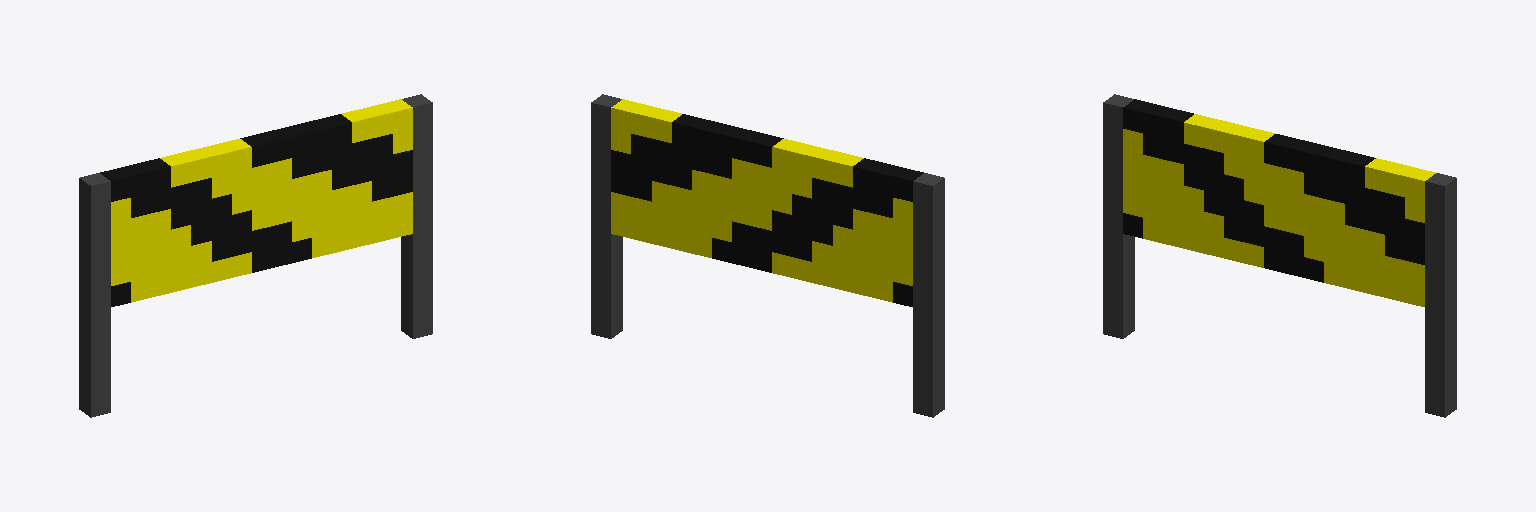
3 views of the same model, side by side, from view 1: azimuth 30°, elevation 25°; view 2: azimuth 150°, elevation 25°; view 3: azimuth 330°, elevation 25° (orthographic).
Visible parts, largest first — view 1: object 1; view 2: object 1; view 3: object 1.
Part boxes in pixels (bbox=[...]): object 1: bbox=[79, 94, 432, 417]; object 1: bbox=[591, 94, 944, 417]; object 1: bbox=[1103, 94, 1456, 417].
Size of the model in its own units: 6.8 by 4.4 by 0.4.
Materials: 1 (1 with a texture image).